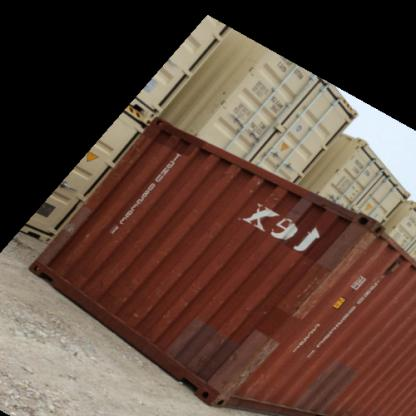Damage: (216, 336, 264, 399), (328, 224, 377, 273), (281, 264, 328, 312), (129, 300, 150, 333), (59, 212, 76, 238), (245, 173, 264, 196)
